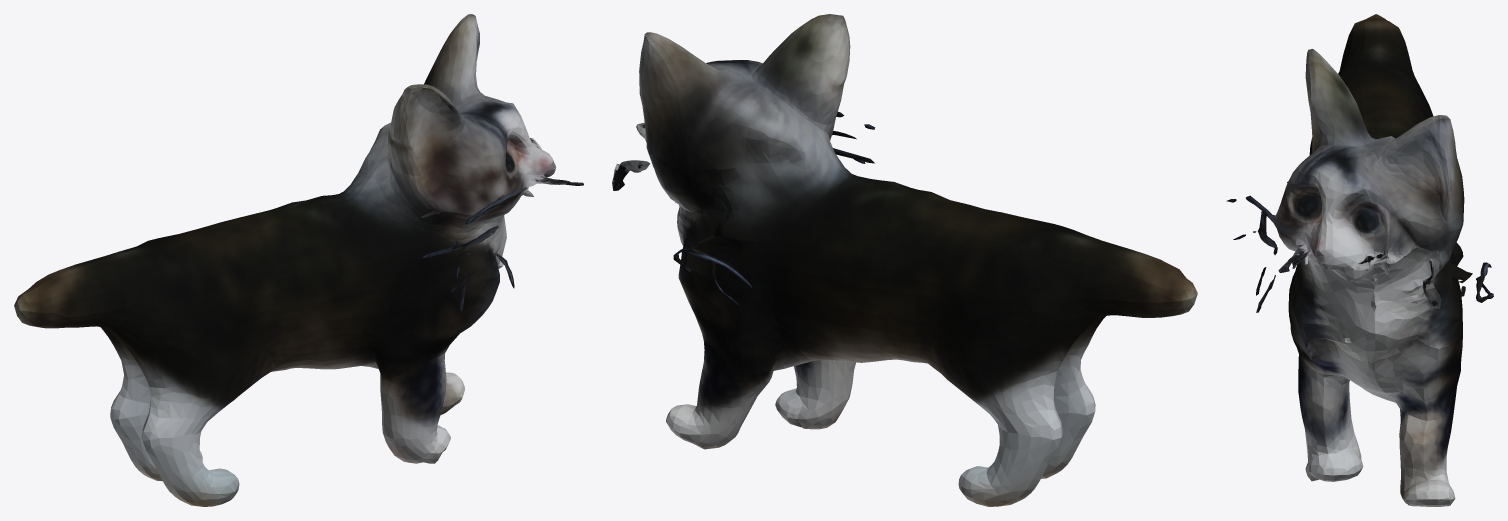
3 renders of one model, left to right at view 1: azimuth 30°, elevation 25°; view 2: azimuth 150°, elevation 25°; view 3: azimuth 270°, elevation 25°, orthographic. The views are drawn at different scales.
Parts seen in each view (by area): view 1: world; view 2: world; view 3: world.
Boxes of the visible parts, left/top/right/bottom form: world: left=14, top=14, right=583, bottom=506; world: left=612, top=14, right=1197, bottom=506; world: left=1226, top=14, right=1493, bottom=506.
Size of the model in its own units: 1 by 0.7039 by 0.4053.
Materials: 1 (1 with a texture image).
